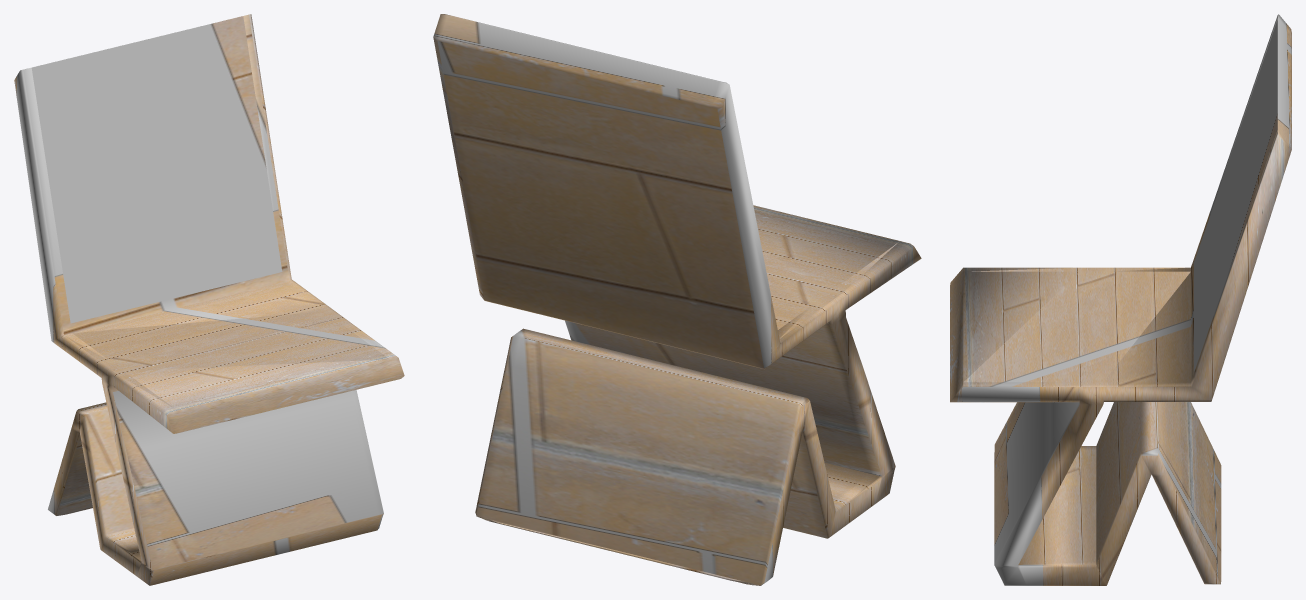
Rendered from chair_004.gltf.
3 renders of one model, left to right at view 1: azimuth 30°, elevation 25°; view 2: azimuth 150°, elevation 25°; view 3: azimuth 270°, elevation 25°, orthographic. The views are drawn at different scales.
Parts seen in each view (by area): view 1: change_material; view 2: change_material; view 3: change_material.
Boxes of the visible parts, box(x1,y1,x2,y2) form: change_material: box(14, 14, 404, 585); change_material: box(433, 14, 921, 585); change_material: box(950, 14, 1291, 585).
Bounding box in the file's own units: 2 × 3.5 × 2.39.
